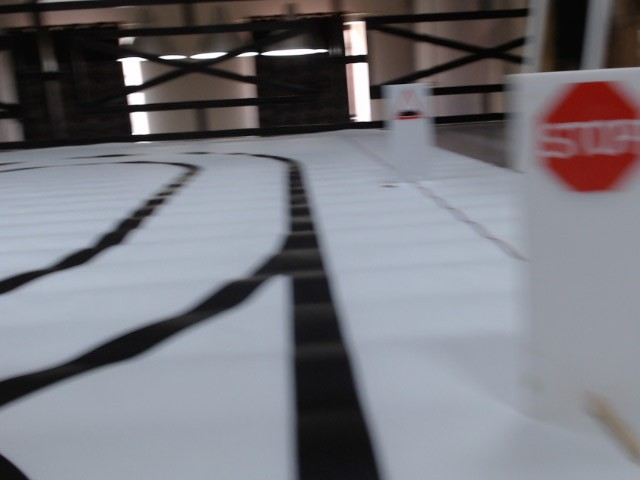Stop: (538, 80, 640, 192)
